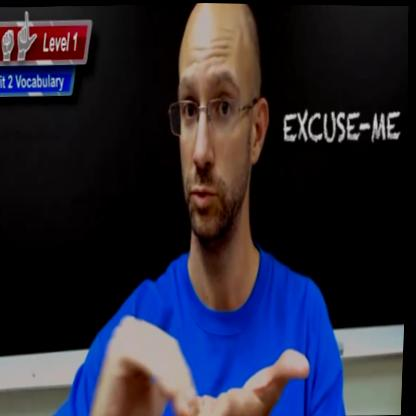ExcuseMe: (71, 284, 316, 416)
